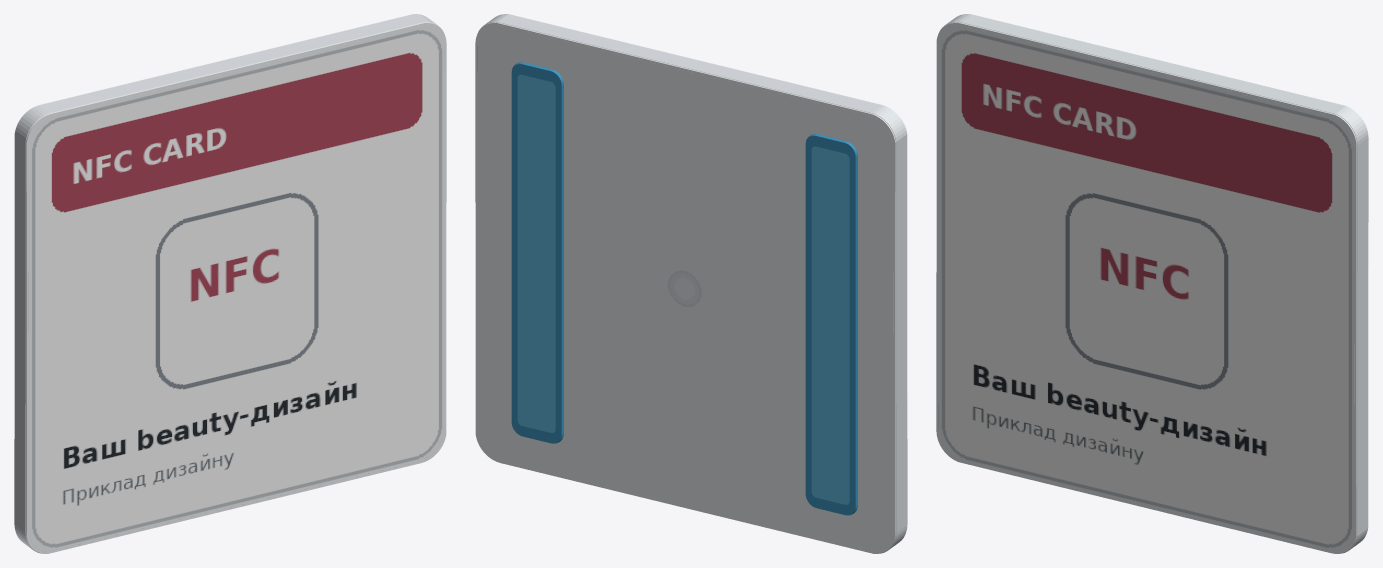
File: beauty-branded.glb
3 views of the same model, side by side, from view 1: azimuth 30°, elevation 25°; view 2: azimuth 150°, elevation 25°; view 3: azimuth 330°, elevation 25° (orthographic).
Visible parts, largest first — view 1: Front, Soft bevel and perimeter glint, Edge; view 2: Back, Continuous ribbon top sheen, Unbroken raised rear ribbons, Soft bevel and perimeter glint, Edge; view 3: Front, Soft bevel and perimeter glint, Edge.
Part boxes in pixels (x1,y1,x2,y2): Front: (26, 23, 446, 553); Soft bevel and perimeter glint: (14, 14, 444, 553); Edge: (14, 14, 435, 549); Back: (475, 23, 895, 553); Continuous ribbon top sheen: (517, 74, 849, 504); Unbroken raised rear ribbons: (511, 62, 857, 515); Soft bevel and perimeter glint: (477, 14, 907, 553); Edge: (486, 14, 907, 549); Front: (936, 23, 1356, 553); Soft bevel and perimeter glint: (938, 14, 1368, 553); Edge: (947, 14, 1368, 549).
Bounding box in the file's own units: 0.0601 × 0.0601 × 0.00347.
6 materials, 2 textured.
